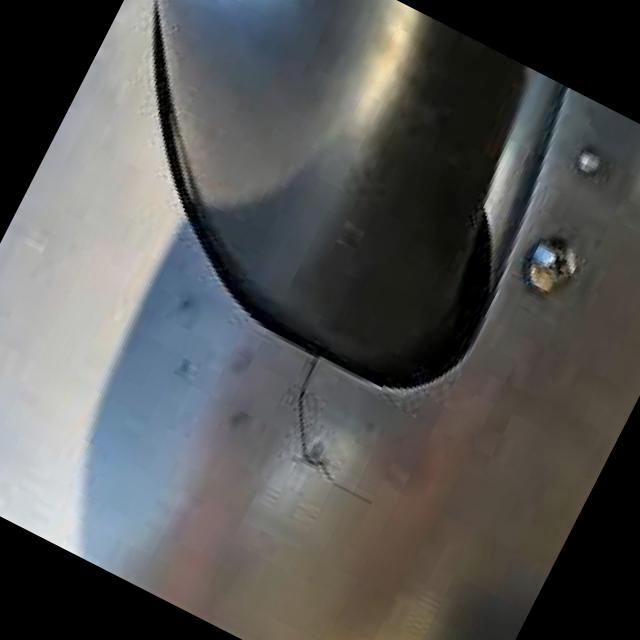defect: (295, 352, 379, 509)
